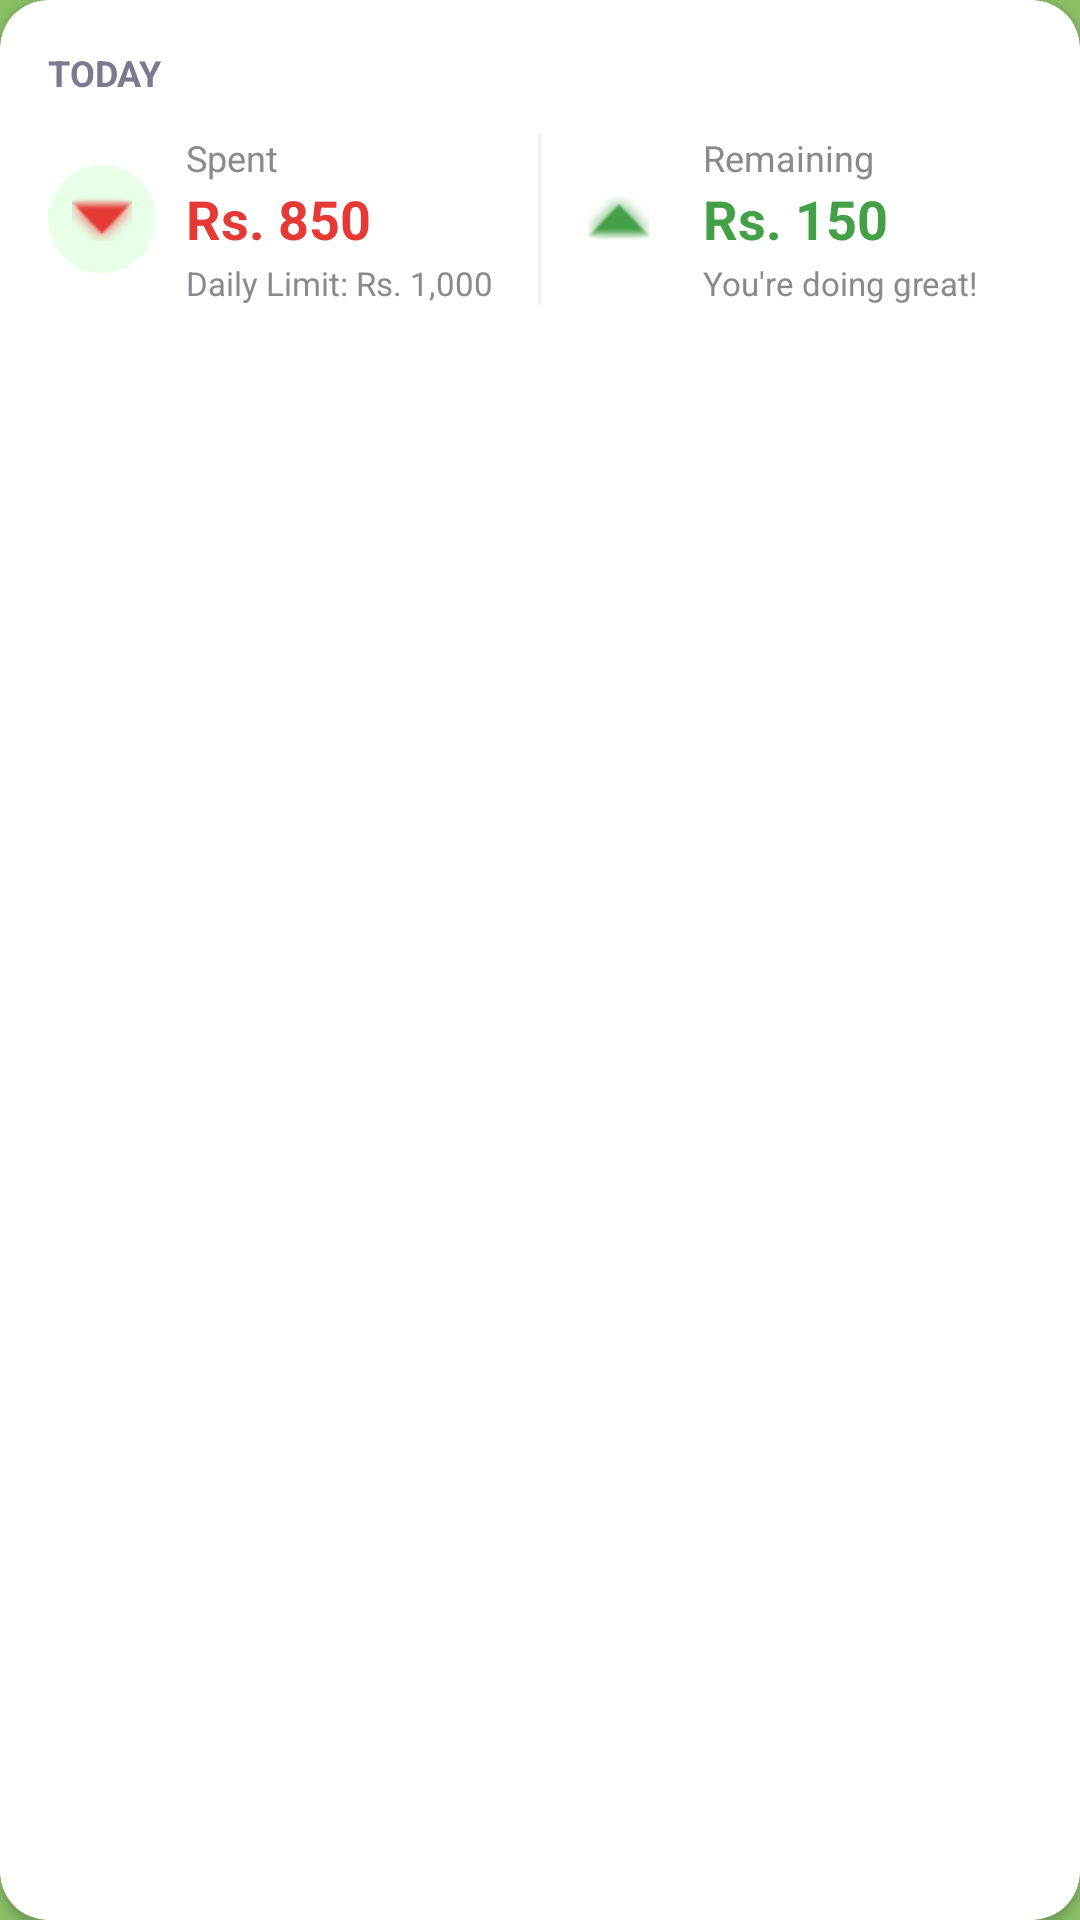

Point at icon controls on the screen. Image size 1080 × 1920, points as (x,y).
arrow down float: (102,219)
arrow up float: (619,219)
